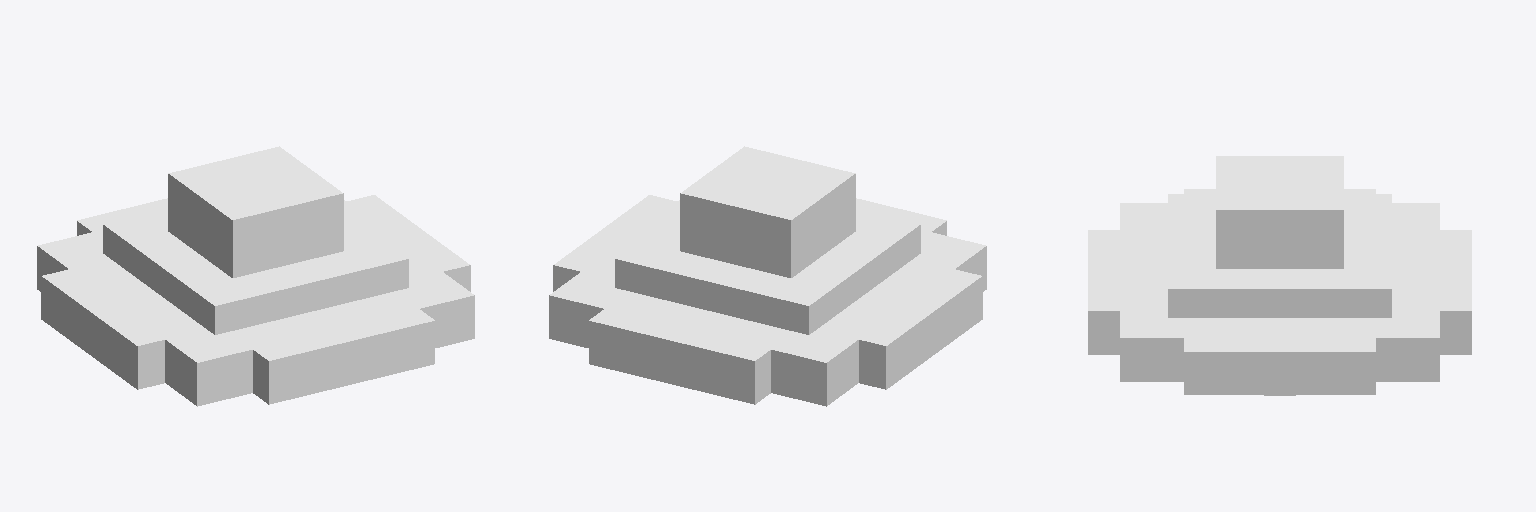
Rendered from ufo.obj.
The picture shows the model from 3 angles: view 1: azimuth 30°, elevation 25°; view 2: azimuth 150°, elevation 25°; view 3: azimuth 270°, elevation 25°; orthographic projection.
Size of the model in its own units: 24 by 10 by 24.